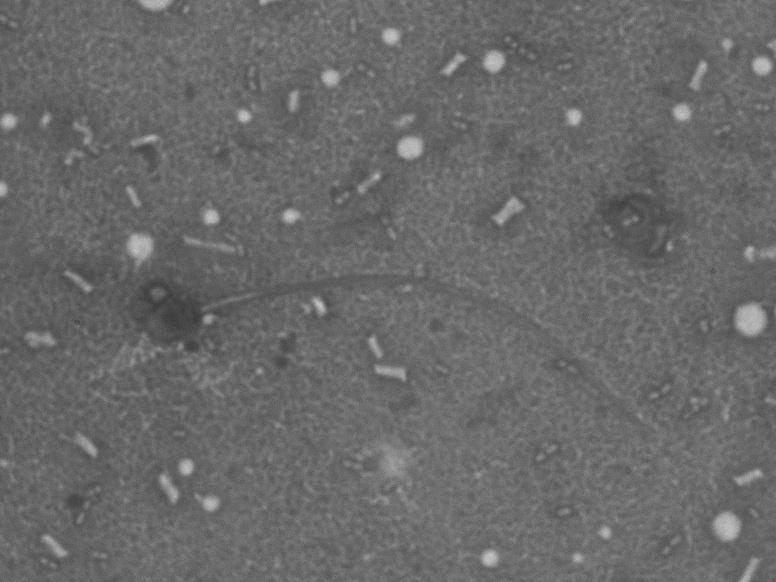Abnormal: (100, 250, 651, 461)
